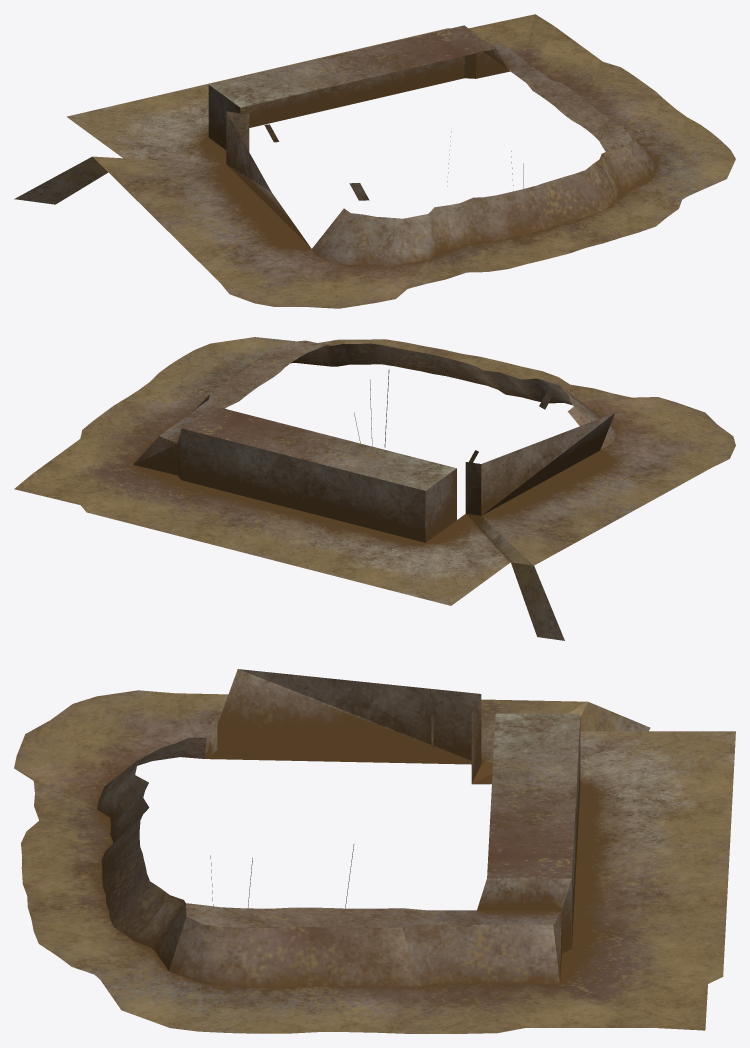
The model's file is suelo_exterior_2.obj.
3 renders of one model, top to bottom at view 1: azimuth 30°, elevation 25°; view 2: azimuth 150°, elevation 25°; view 3: azimuth 270°, elevation 25°, orthographic. The views are drawn at different scales.
Parts seen in each view (by area): view 1: suelo_exterior_2; view 2: suelo_exterior_2; view 3: suelo_exterior_2.
Part boxes in pixels (<box>): suelo_exterior_2: <box>14,14,735,308</box>; suelo_exterior_2: <box>14,337,735,640</box>; suelo_exterior_2: <box>14,669,735,1033</box>.
Bounding box in the file's own units: 1785 × 332 × 1517.
1 material, 1 textured.
